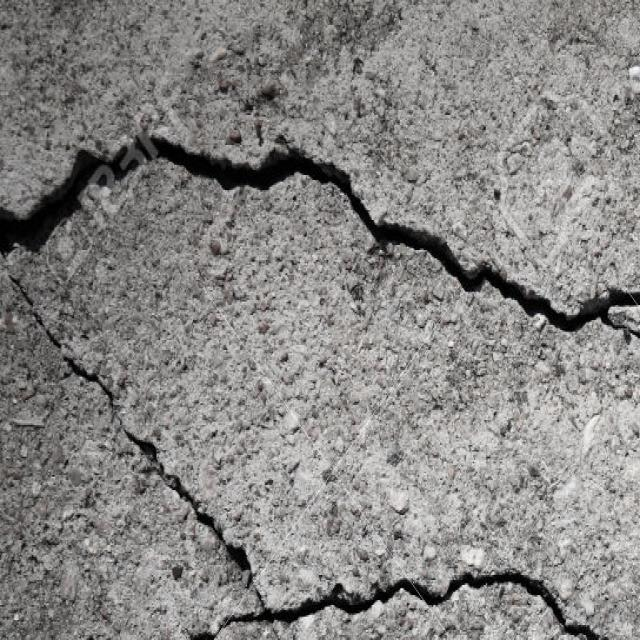Turtle-shell patterned: (0, 113, 640, 640)
